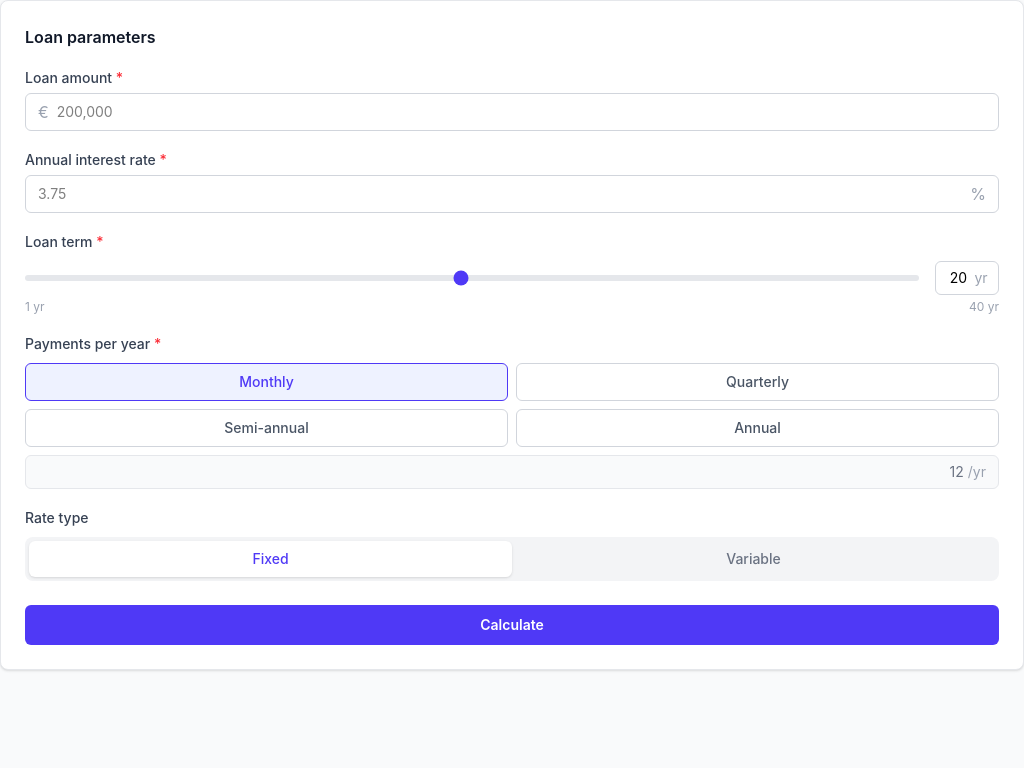
Test: LoanForm validation on submit › shows only the amount error when the amount is 0
In the number field labelled "Loan amount *": [517, 112] box [49,94,986,130], type "0"
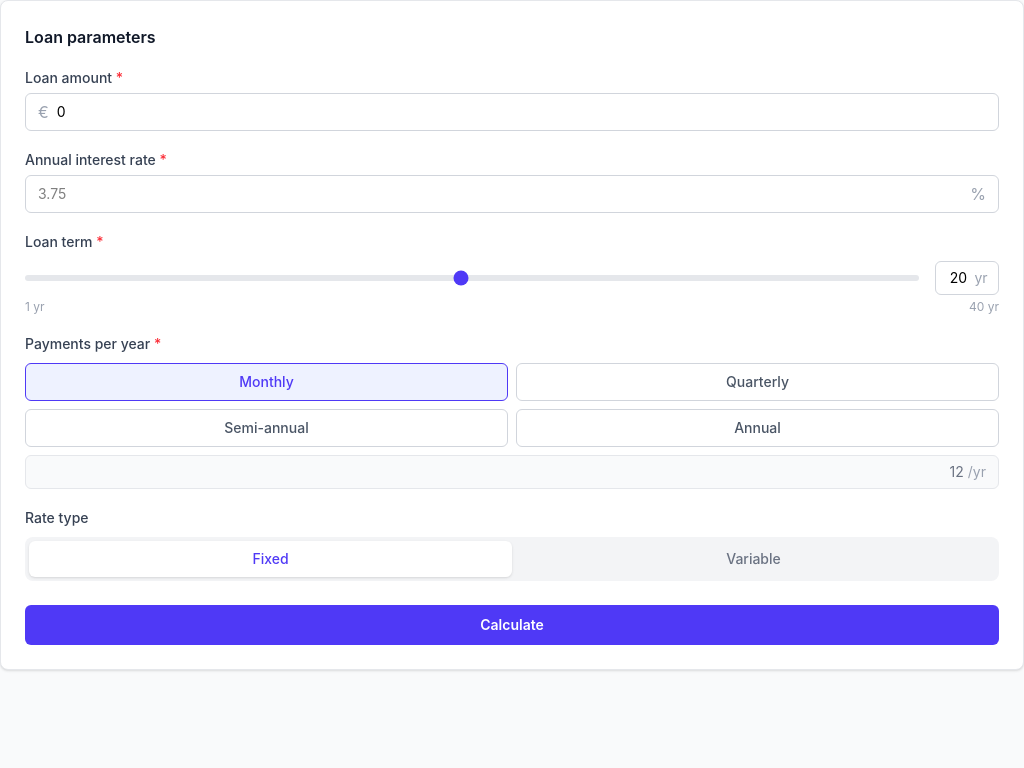
In the number field labelled "Annual interest rate *": [504, 194] box [38,176,970,212], type "3.5"
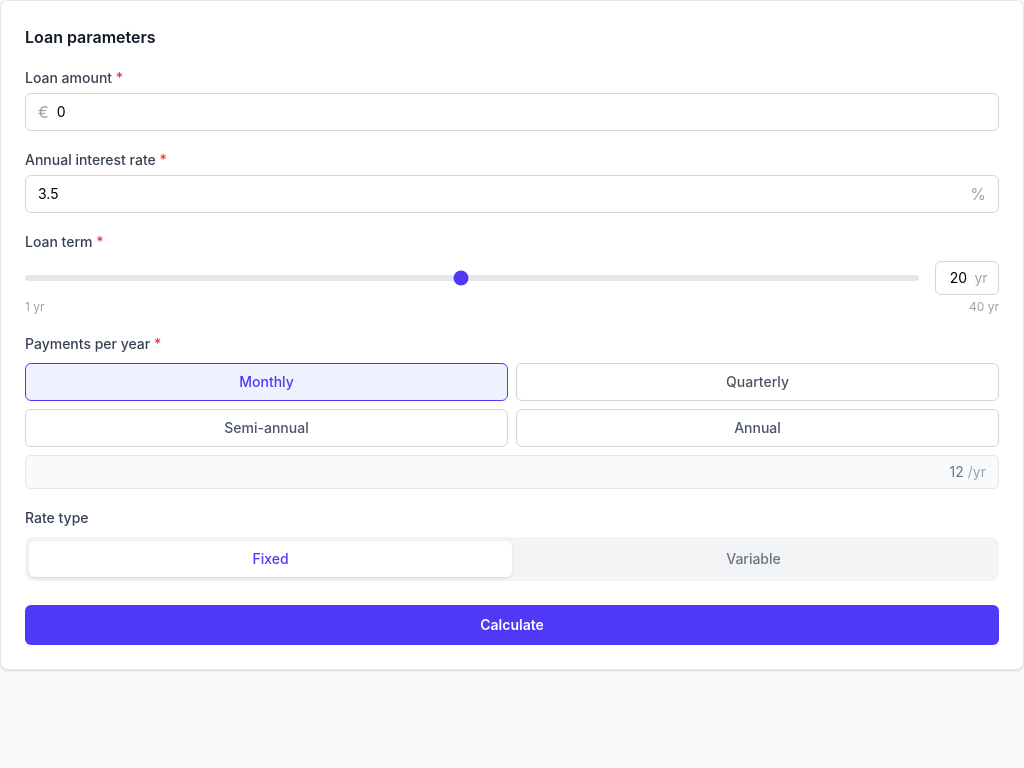
Click the button "Calculate": [512, 625] box [25,605,999,645]
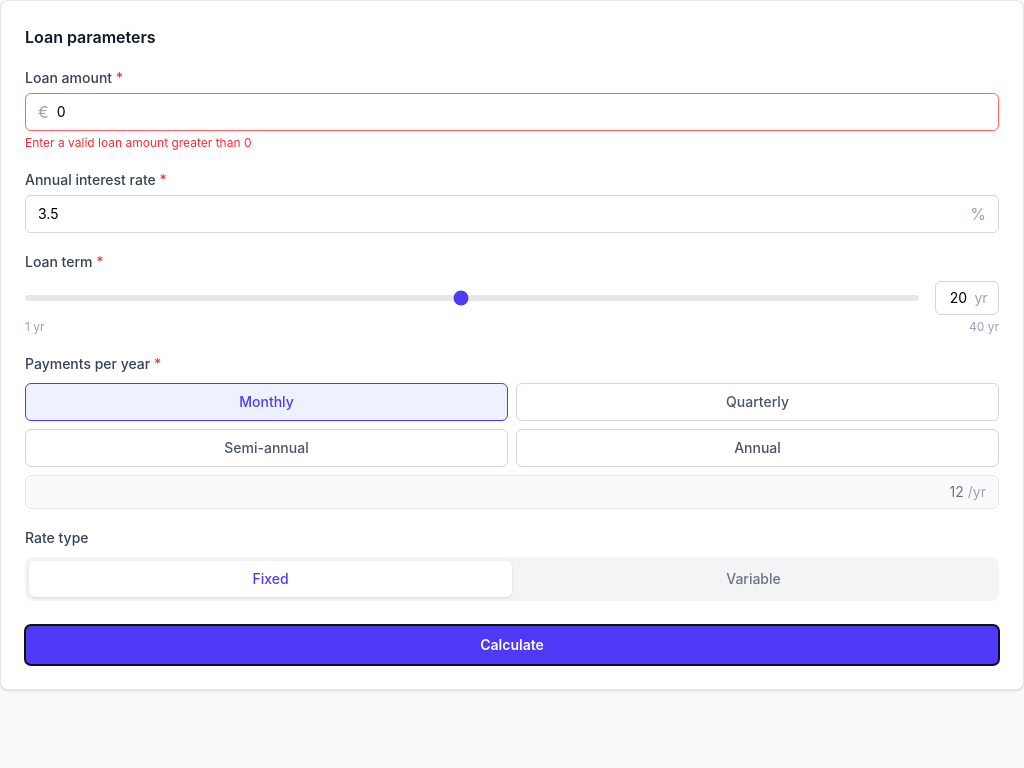
Expected: the number of messages is 1, [25,135,252,150]
